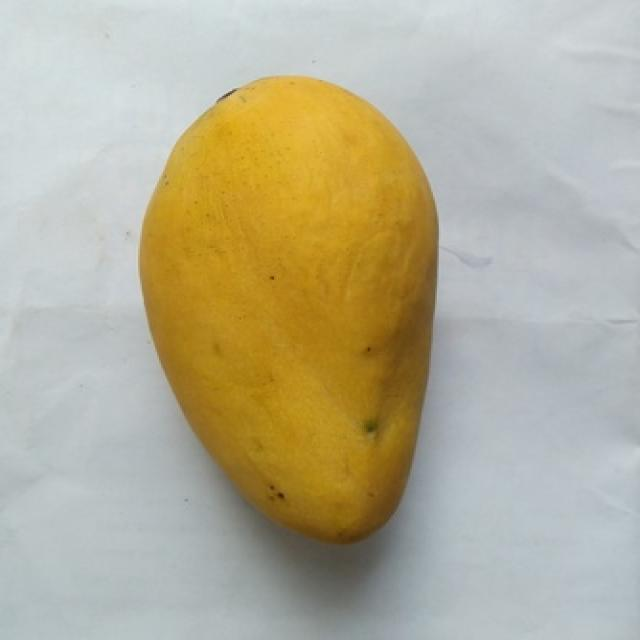Mango: (140, 77, 435, 541)
